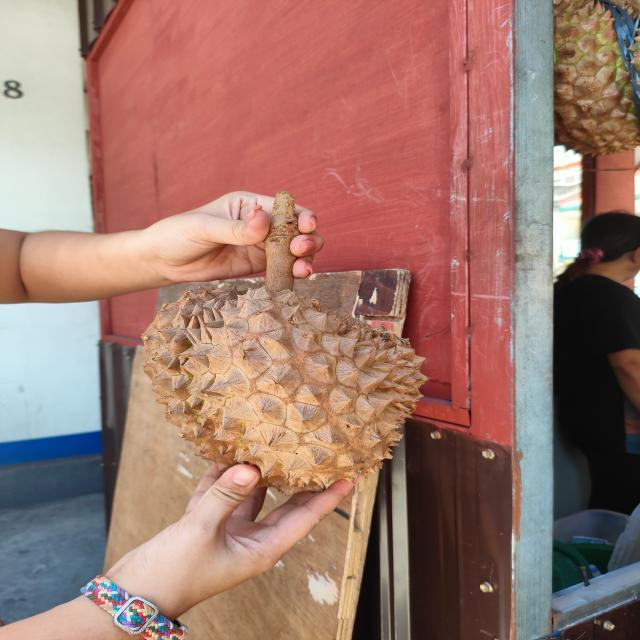mature: (139, 285, 429, 497)
